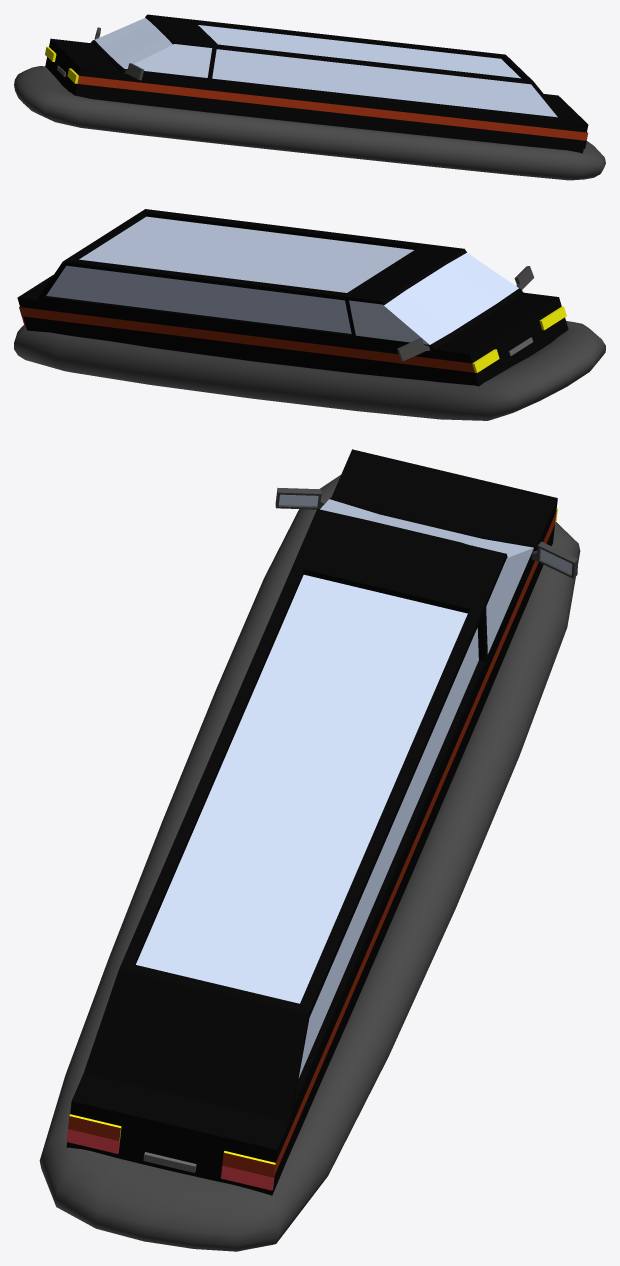
The model's file is car7.fbx.
The picture shows the model from 3 angles, top to bottom: view 1: azimuth 30°, elevation 25°; view 2: azimuth 150°, elevation 25°; view 3: azimuth 270°, elevation 25°; orthographic projection. The views are drawn at different scales.
Parts seen in each view (by area): view 1: car.006, airCussion.006; view 2: car.006, airCussion.006, sideMirrorRight.006; view 3: car.006, airCussion.006.
Boxes of the visible parts, x1,y1,x2,y2 form: car.006: [45, 14, 588, 153]; airCussion.006: [14, 66, 605, 180]; car.006: [17, 209, 568, 386]; airCussion.006: [14, 321, 605, 420]; sideMirrorRight.006: [397, 338, 430, 361]; car.006: [66, 449, 557, 1195]; airCussion.006: [39, 475, 580, 1251].
Bounding box in the file's own units: 179 × 63.55 × 82.2.
